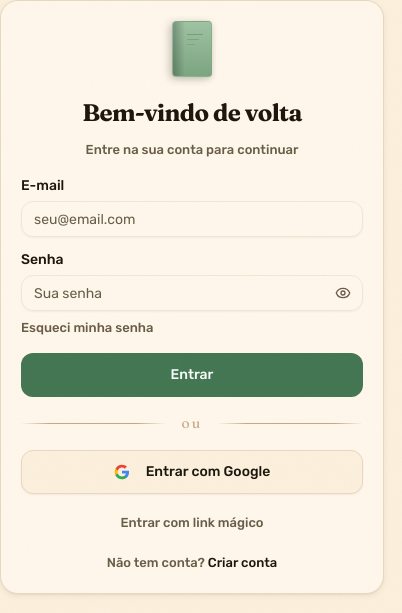
Test: LoginPage › 'Esqueci minha senha' leva ao fluxo de link mágico
Type "test@example.com" into the field labelled "E-mail" at (192, 219), box [21, 201, 363, 237]
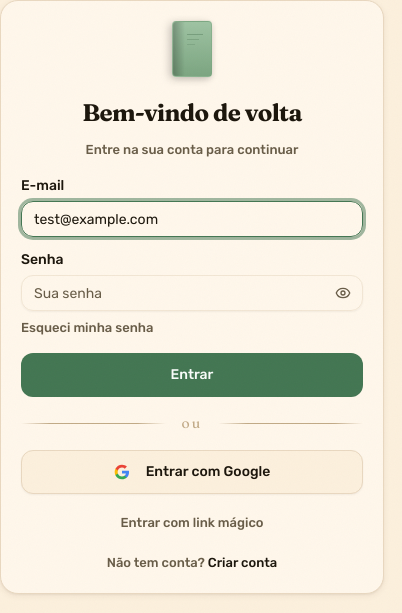
Click the button "Esqueci minha senha" at (87, 328), box [21, 319, 153, 337]
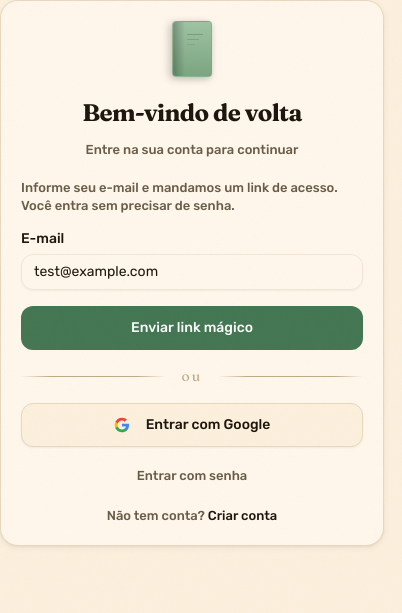
Now the button "Enviar link mágico" is shown, box [21, 306, 363, 350]
Now the field labelled "E-mail" holds "test@example.com", box [21, 254, 363, 290]
